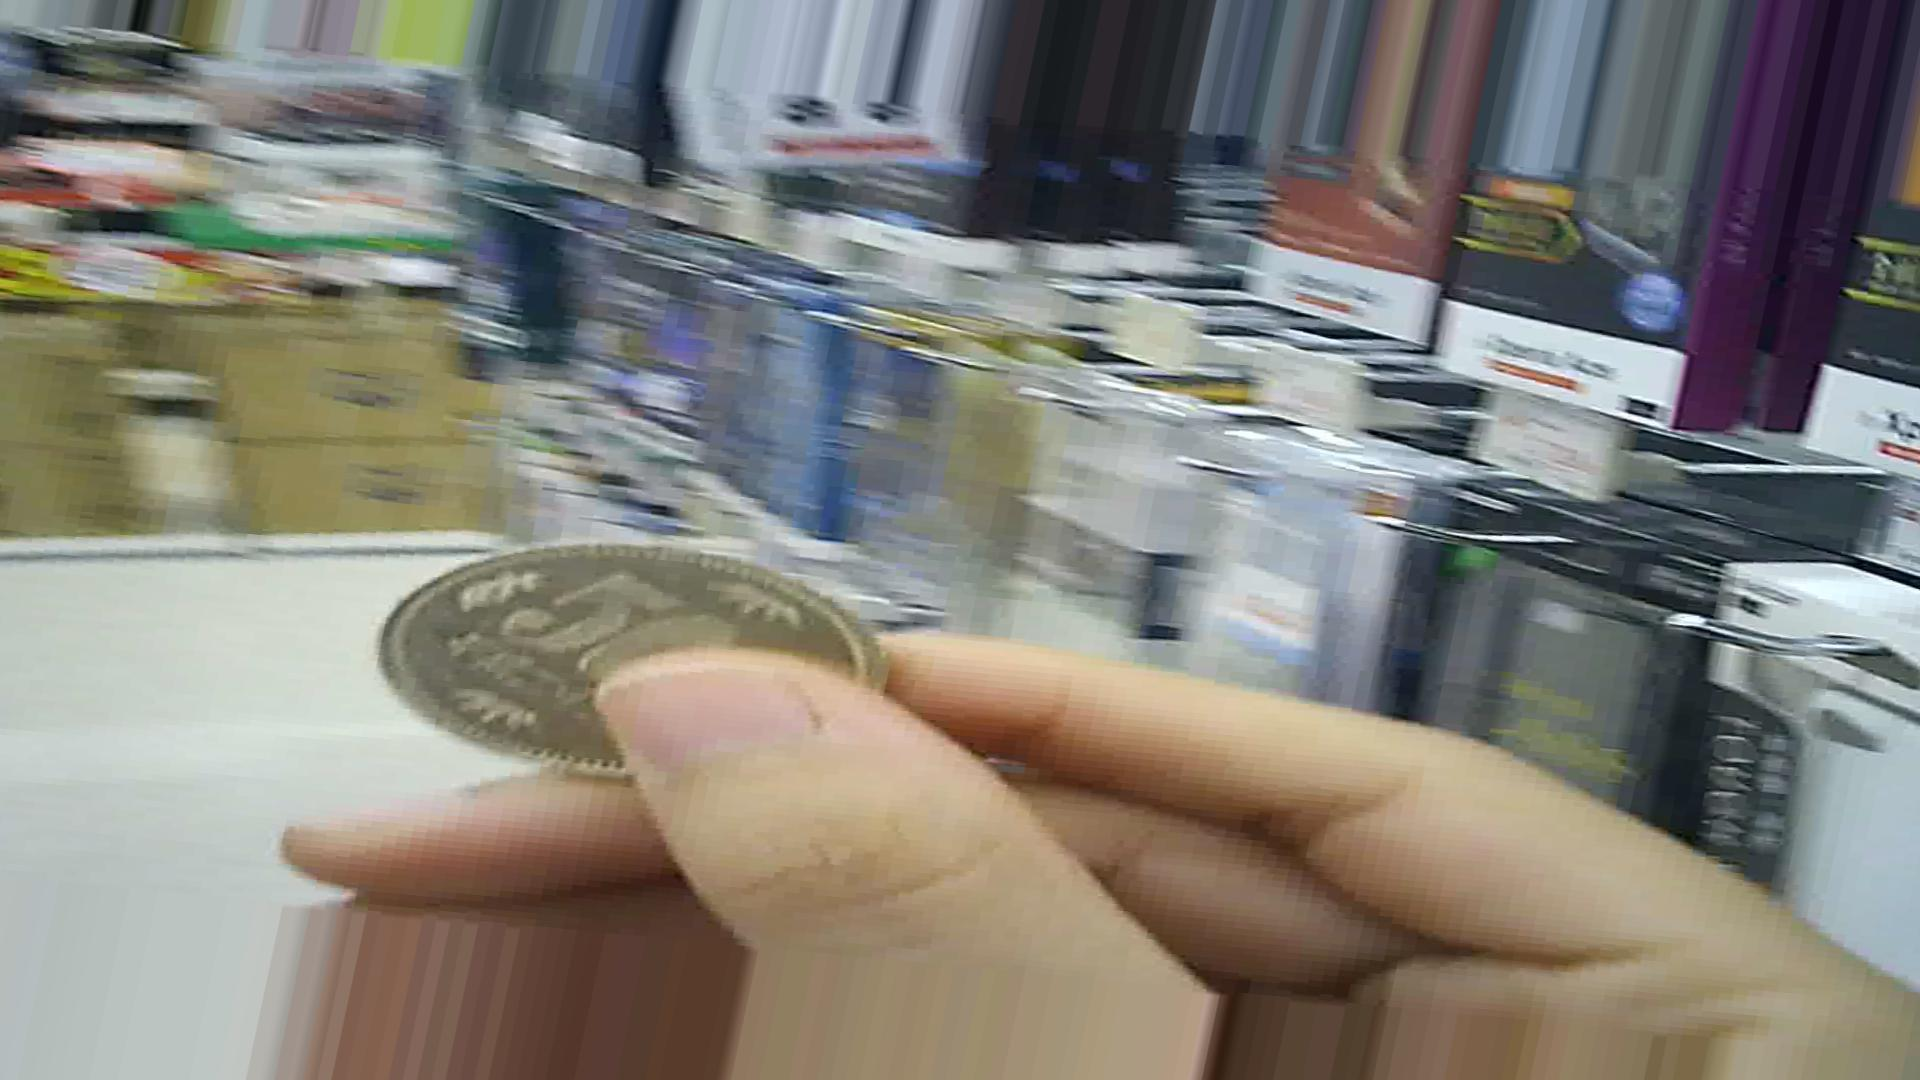500 Yen: (371, 538, 872, 787)
